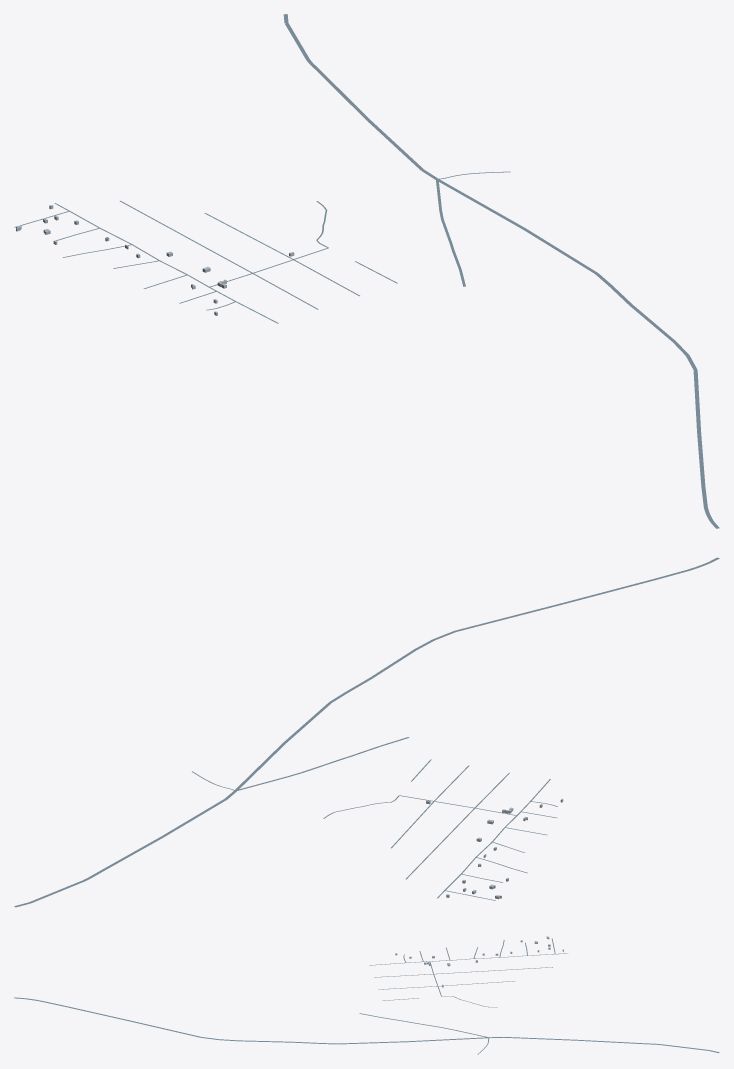
3 renders of one model, top to bottom at view 1: azimuth 30°, elevation 25°; view 2: azimuth 150°, elevation 25°; view 3: azimuth 270°, elevation 25°, orthographic. The views are drawn at different scales.
Bounding box in the file's own units: 1217 × 8 × 3104.
